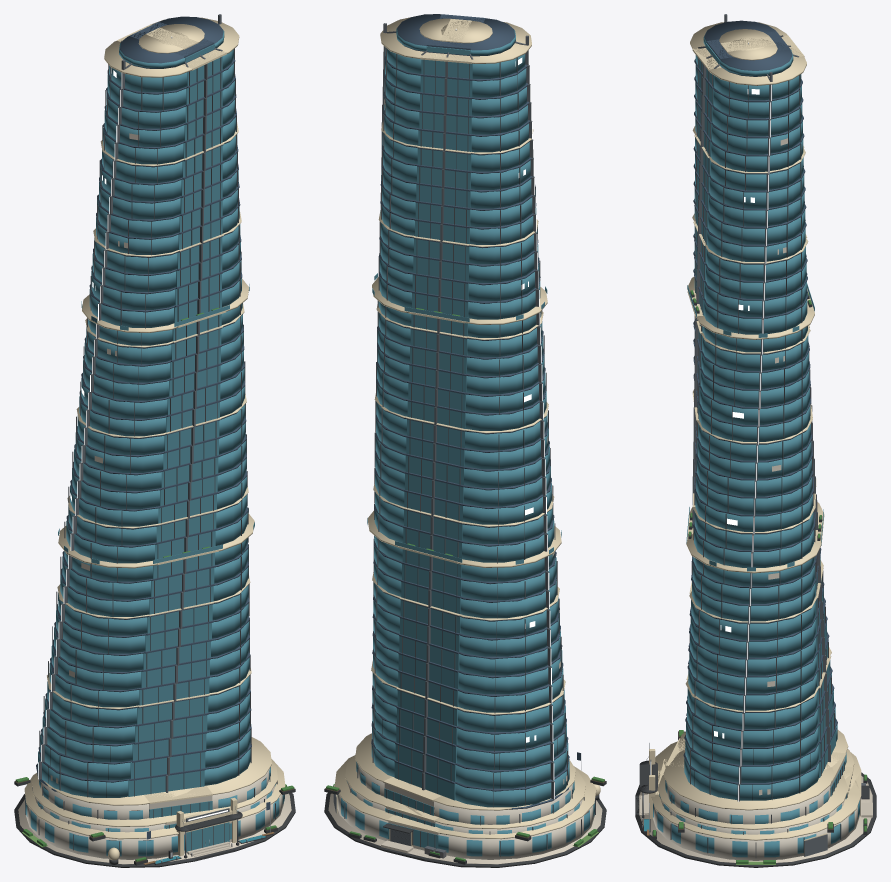
Rendered from main_tower.glb.
The picture shows the model from 3 angles, left to right: view 1: azimuth 30°, elevation 25°; view 2: azimuth 150°, elevation 25°; view 3: azimuth 270°, elevation 25°; orthographic projection.
Parts seen in each view (by area): view 1: Merged_MainGlass, Merged_MainSpandrel, Merged_MainTrim, Merged_WindowFrame, Merged_MainMetal, Merged_MainStone, Merged_VillaGranite, Merged_VillaPavement, Merged_LampGlow; view 2: Merged_MainGlass, Merged_MainSpandrel, Merged_MainTrim, Merged_WindowFrame, Merged_MainMetal, Merged_MainStone, Merged_VillaGranite, Merged_VillaPavement, Merged_LampGlow; view 3: Merged_MainGlass, Merged_MainTrim, Merged_MainSpandrel, Merged_WindowFrame, Merged_MainMetal, Merged_MainStone, Merged_VillaGranite, Merged_VillaPavement, Merged_LampGlow.
Boxes of the visible parts, box(x1,y1,x2,y2) form: Merged_MainGlass: box(25, 30, 284, 856); Merged_MainSpandrel: box(36, 16, 270, 839); Merged_MainTrim: box(24, 17, 285, 860); Merged_WindowFrame: box(25, 48, 284, 857); Merged_MainMetal: box(39, 14, 262, 864); Merged_MainStone: box(26, 768, 283, 859); Merged_VillaGranite: box(14, 310, 295, 867); Merged_VillaPavement: box(18, 793, 291, 864); Merged_LampGlow: box(38, 36, 227, 860); Merged_MainGlass: box(337, 28, 594, 856); Merged_MainSpandrel: box(371, 14, 580, 809); Merged_MainTrim: box(334, 17, 600, 846); Merged_WindowFrame: box(344, 48, 595, 856); Merged_MainMetal: box(333, 23, 554, 852); Merged_MainStone: box(337, 763, 594, 859); Merged_VillaGranite: box(324, 779, 606, 867); Merged_VillaPavement: box(328, 793, 602, 864); Merged_LampGlow: box(380, 29, 554, 799); Merged_MainGlass: box(653, 31, 859, 857); Merged_MainTrim: box(649, 22, 861, 856); Merged_MainSpandrel: box(683, 20, 837, 784); Merged_WindowFrame: box(670, 58, 852, 857); Merged_MainMetal: box(642, 14, 865, 856); Merged_MainStone: box(653, 758, 859, 860); Merged_VillaGranite: box(635, 291, 876, 867); Merged_VillaPavement: box(639, 776, 872, 862); Merged_LampGlow: box(642, 42, 771, 825).
Bounding box in the file's own units: 50 × 148 × 42.
